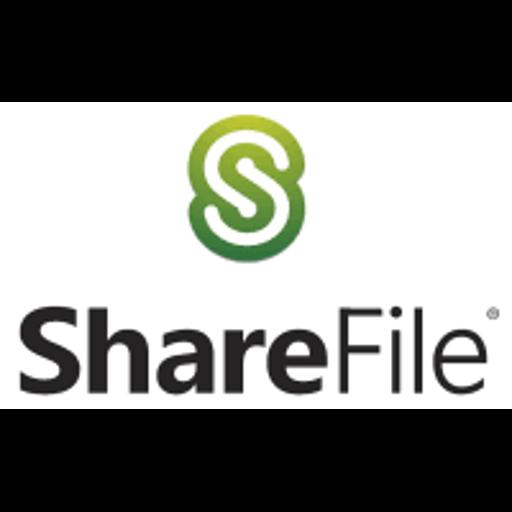Citrix ShareFile: (0, 102, 512, 409)
